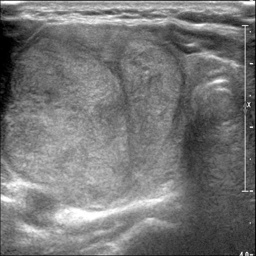mass: (5, 22, 184, 207)
